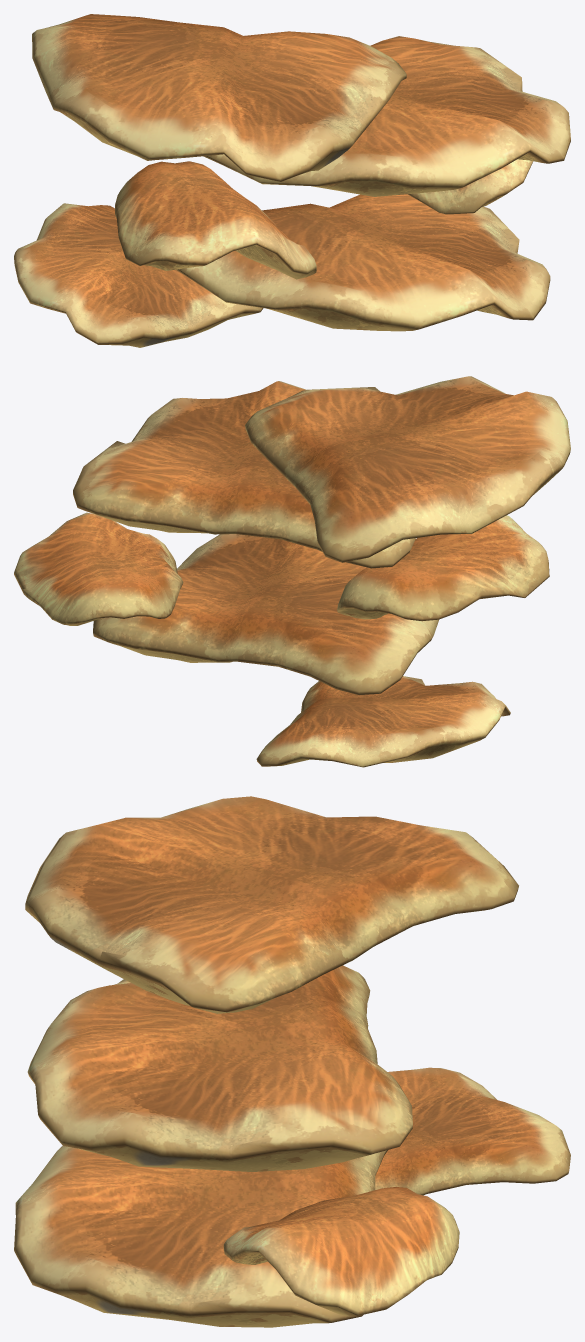
File: Mushroom_Laetiporus.glb
The picture shows the model from 3 angles, top to bottom: view 1: azimuth 30°, elevation 25°; view 2: azimuth 150°, elevation 25°; view 3: azimuth 270°, elevation 25°; orthographic projection. The views are drawn at different scales.
Visible parts, largest first — view 1: Mushroom_Laetiporus; view 2: Mushroom_Laetiporus; view 3: Mushroom_Laetiporus.
Part boxes in pixels (left/top/right/bottom): Mushroom_Laetiporus: left=14, top=14, right=570, bottom=347; Mushroom_Laetiporus: left=14, top=376, right=570, bottom=767; Mushroom_Laetiporus: left=14, top=796, right=570, bottom=1327.
Bounding box in the file's own units: 1.37 × 0.767 × 1.1.
1 material, 1 textured.
